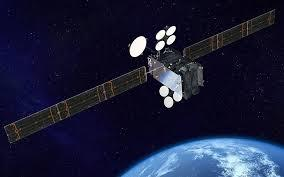antenna: (128, 34, 148, 59), (154, 27, 167, 42), (158, 84, 171, 99), (171, 89, 184, 104), (162, 95, 175, 109), (154, 39, 167, 52), (165, 34, 179, 46), (165, 25, 178, 37)
body: (146, 44, 206, 102)
solar: (2, 64, 149, 146), (182, 7, 278, 63)
